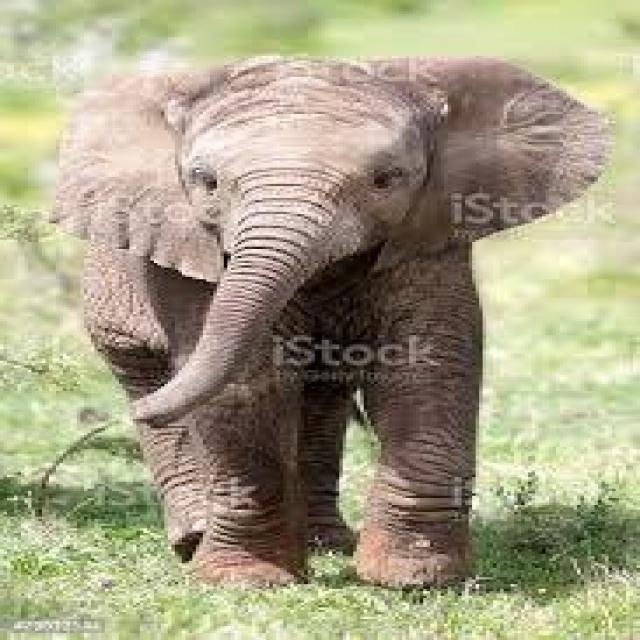Elephant: (49, 49, 608, 586)
